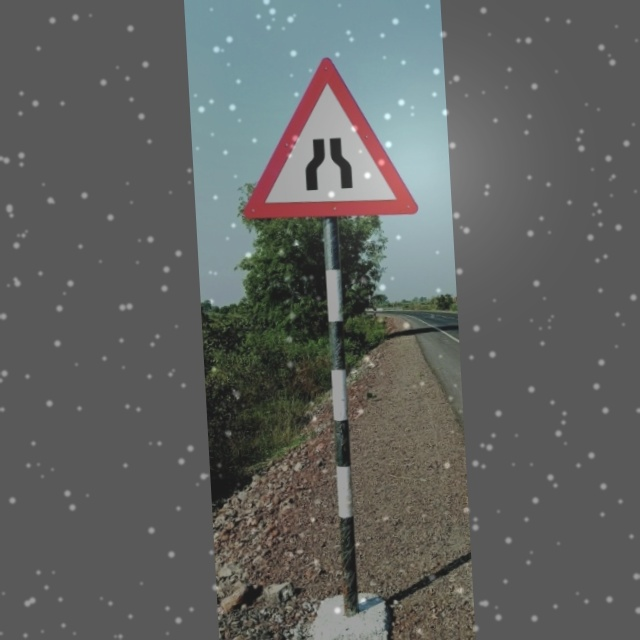Narrow_Road_Ahead: (239, 56, 420, 225)
